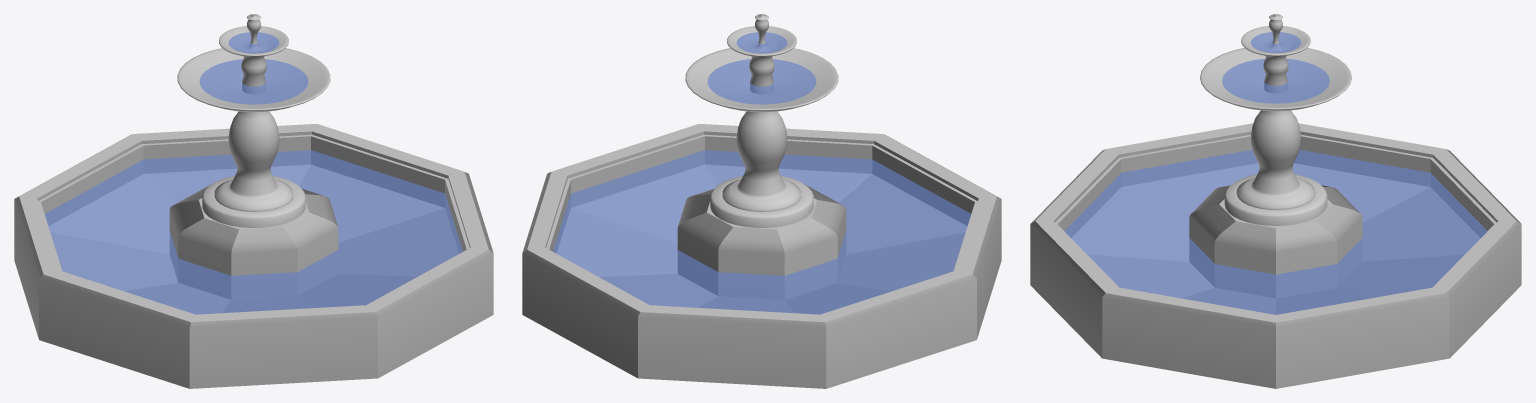
Rendered from fountain.obj.
3 views of the same model, side by side, from view 1: azimuth 30°, elevation 25°; view 2: azimuth 150°, elevation 25°; view 3: azimuth 270°, elevation 25° (orthographic).
Parts seen in each view (by area): view 1: obj1, obj3, obj2; view 2: obj1, obj3, obj2; view 3: obj1, obj3, obj2.
Boxes of the visible parts, x1,y1,x2,y2 form: obj1: (14, 123, 493, 388); obj3: (45, 32, 462, 314); obj2: (177, 14, 330, 227); obj1: (522, 123, 1001, 388); obj3: (553, 32, 970, 314); obj2: (685, 14, 838, 227); obj1: (1030, 123, 1521, 388); obj3: (1064, 32, 1487, 314); obj2: (1200, 14, 1351, 225).
Bounding box in the file's own units: 13.91 × 8.45 × 13.91.
